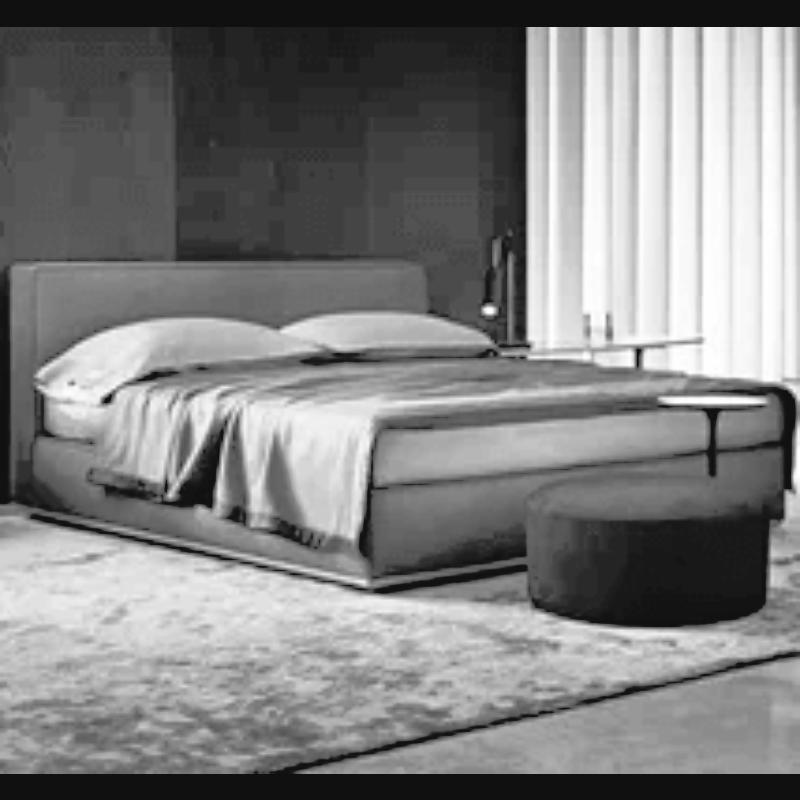pillow: (36, 311, 324, 384), (282, 306, 498, 368)
